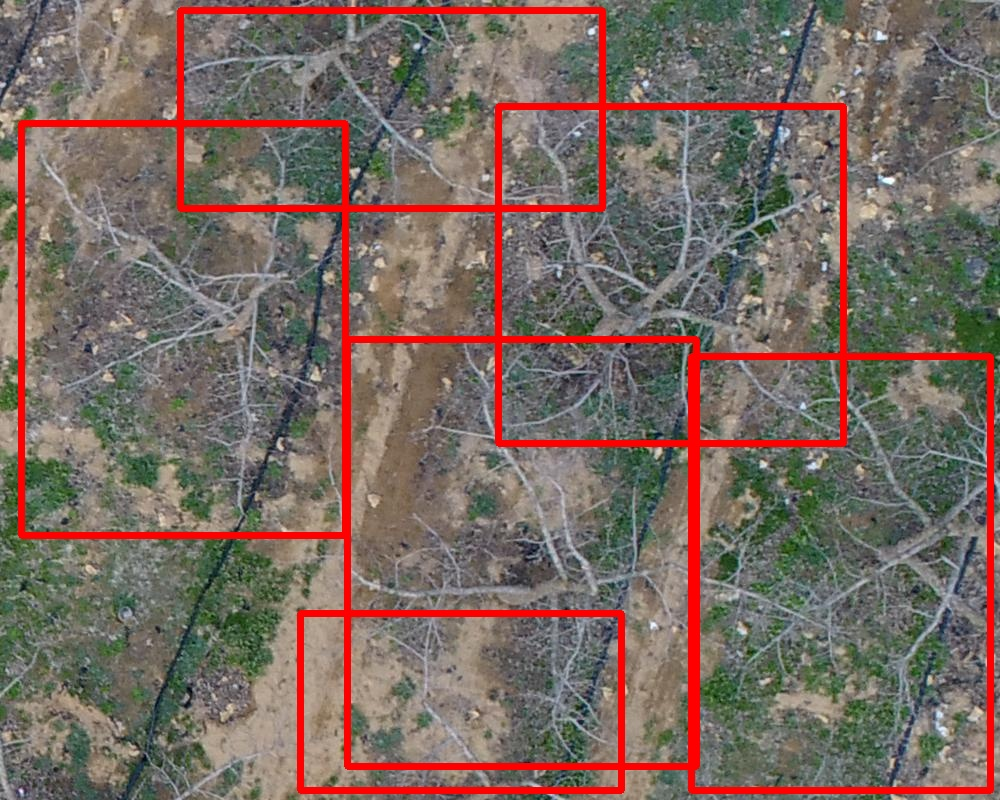apple: (347, 339, 696, 766), (21, 123, 345, 535), (691, 356, 990, 790), (498, 106, 843, 443), (180, 10, 602, 208), (300, 613, 621, 790)
